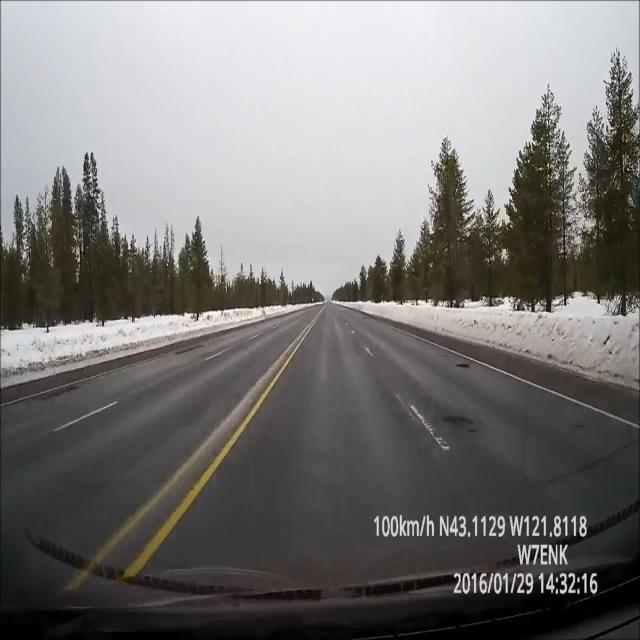pothole: (439, 402, 476, 442), (449, 350, 474, 375)
